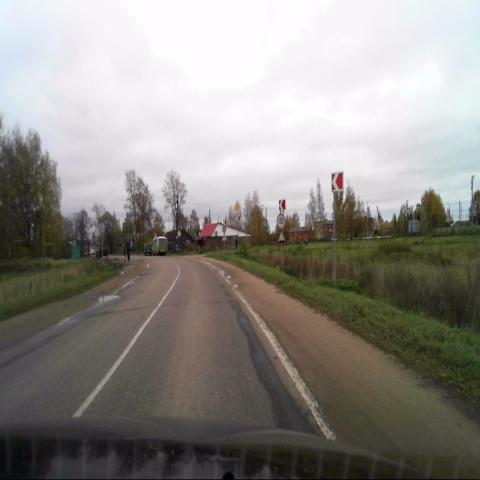1_16: (277, 229, 286, 245)
2_1: (233, 201, 241, 214)
3_24: (276, 214, 286, 230)
